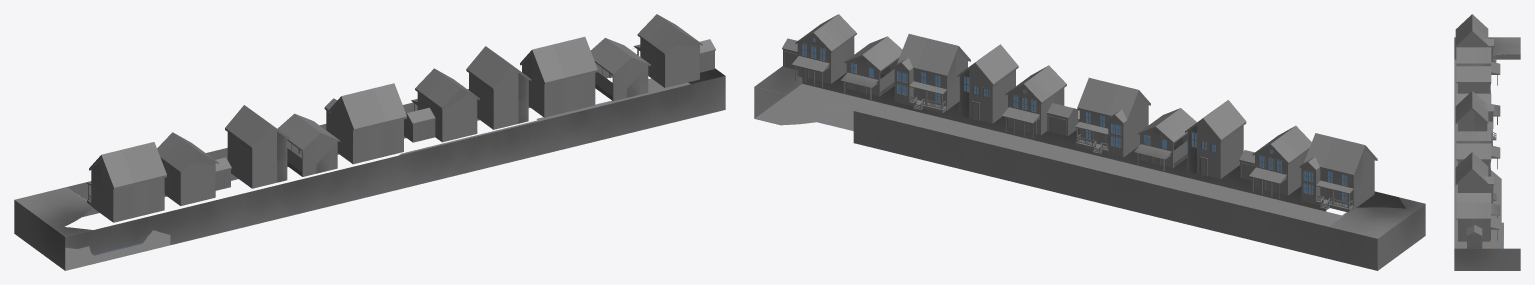
The model's file is german.fbx.
3 renders of one model, left to right at view 1: azimuth 30°, elevation 25°; view 2: azimuth 150°, elevation 25°; view 3: azimuth 270°, elevation 25°, orthographic. The views are drawn at different scales.
Visible parts, largest first — view 1: Acera, Casa.009, Casa.005, Casa.003, Casa.004, Casa.007, Casa.002, Casa, Casa.008, Casa.001, Casa.006; view 2: Acera, Casa.009, Casa.005, Casa.003, Casa.004, Casa.007, Casa.002, Casa, Casa.008, Casa.001, Casa.006; view 3: Acera, Casa.002, Casa.005, Casa.003, Casa.007, Casa.009, Casa.008, Casa, Casa.004, Casa.001, Casa.006.
Part boxes in pixels (left/top/right/bottom): Acera: left=14, top=48, right=725, bottom=270; Casa.009: left=87, top=142, right=166, bottom=222; Casa.005: left=324, top=83, right=406, bottom=164; Casa.003: left=520, top=36, right=597, bottom=117; Casa.004: left=404, top=68, right=479, bottom=142; Casa.007: left=225, top=105, right=289, bottom=188; Casa.002: left=633, top=14, right=715, bottom=87; Casa: left=466, top=46, right=531, bottom=129; Casa.008: left=157, top=132, right=231, bottom=205; Casa.001: left=590, top=38, right=650, bottom=101; Casa.006: left=277, top=113, right=340, bottom=176; Acera: left=754, top=66, right=1425, bottom=270; Casa.009: left=1299, top=133, right=1377, bottom=212; Casa.005: left=1075, top=77, right=1150, bottom=157; Casa.003: left=893, top=34, right=970, bottom=113; Casa.004: left=1002, top=65, right=1079, bottom=138; Casa.007: left=1185, top=100, right=1246, bottom=179; Casa.002: left=782, top=14, right=856, bottom=87; Casa: left=957, top=44, right=1018, bottom=123; Casa.008: left=1239, top=125, right=1311, bottom=198; Casa.001: left=840, top=36, right=902, bottom=99; Casa.006: left=1134, top=108, right=1196, bottom=170; Acera: left=1454, top=37, right=1520, bottom=270; Casa.002: left=1456, top=202, right=1500, bottom=248; Casa.005: left=1455, top=91, right=1496, bottom=145; Casa.003: left=1455, top=152, right=1496, bottom=203; Casa.007: left=1456, top=64, right=1491, bottom=93; Casa.009: left=1455, top=14, right=1496, bottom=62; Casa.008: left=1456, top=47, right=1500, bottom=85; Casa: left=1456, top=141, right=1491, bottom=176; Casa.004: left=1456, top=131, right=1500, bottom=169; Casa.001: left=1456, top=193, right=1500, bottom=217; Casa.006: left=1456, top=93, right=1500, bottom=124.
Bounding box in the file's own units: 42198 × 5785 × 5624.
